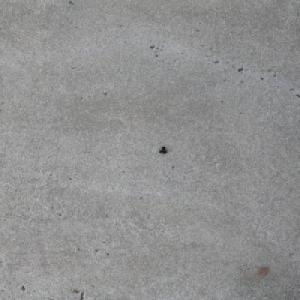BoltWasher: (158, 146, 167, 154)
